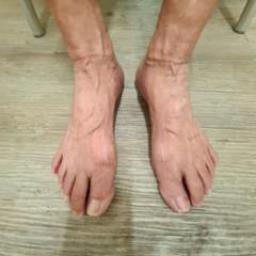Dorsal View -Both Feet-: (35, 22, 239, 232)
